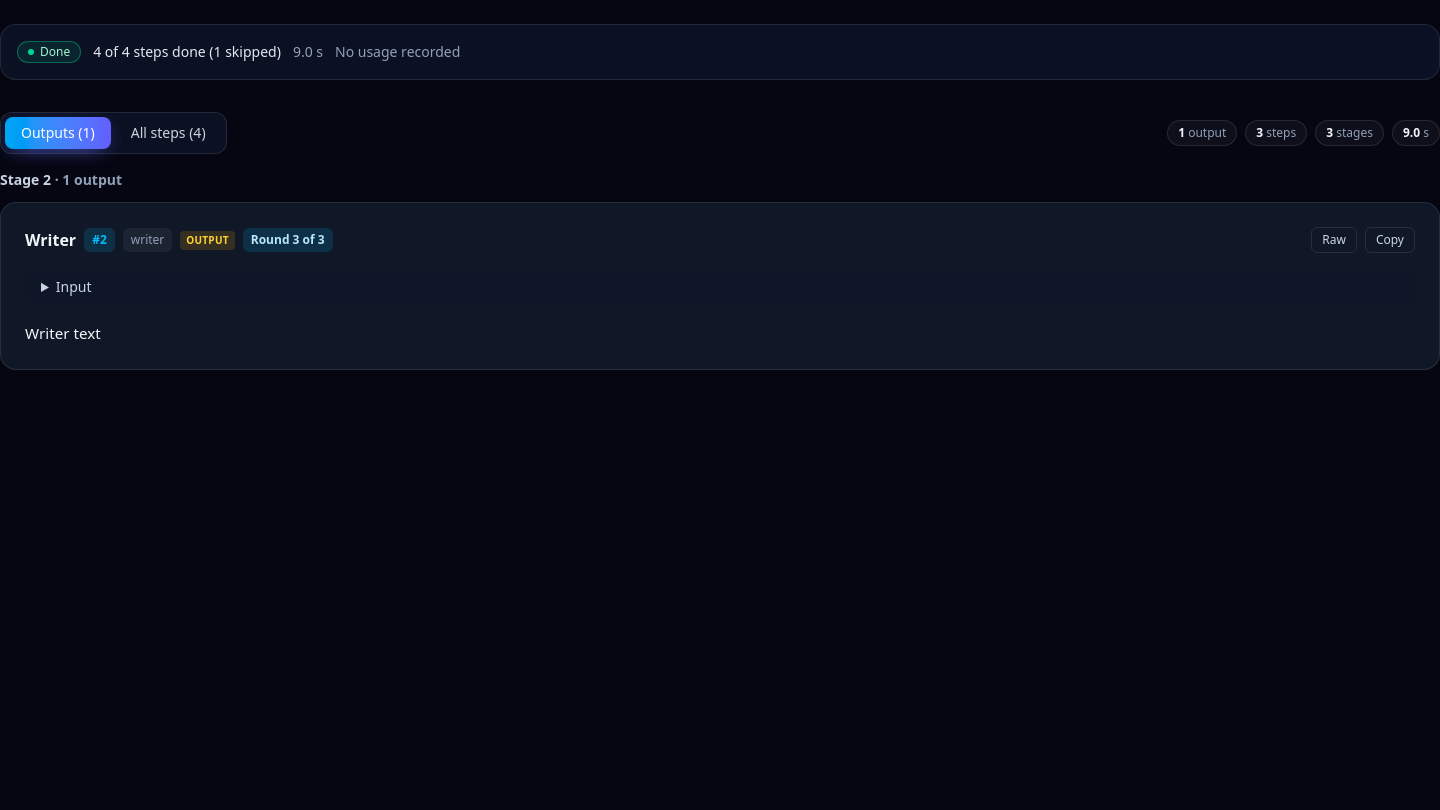
Test: LiveRun: review rounds › tells what the reviewer’s last answer led to: out of rounds
What coordinates should you click on to do the following:
click the tab "All steps (4)"
I would click on:
 (168, 133)
Its box is [115,117,222,149].
(page scrolled)
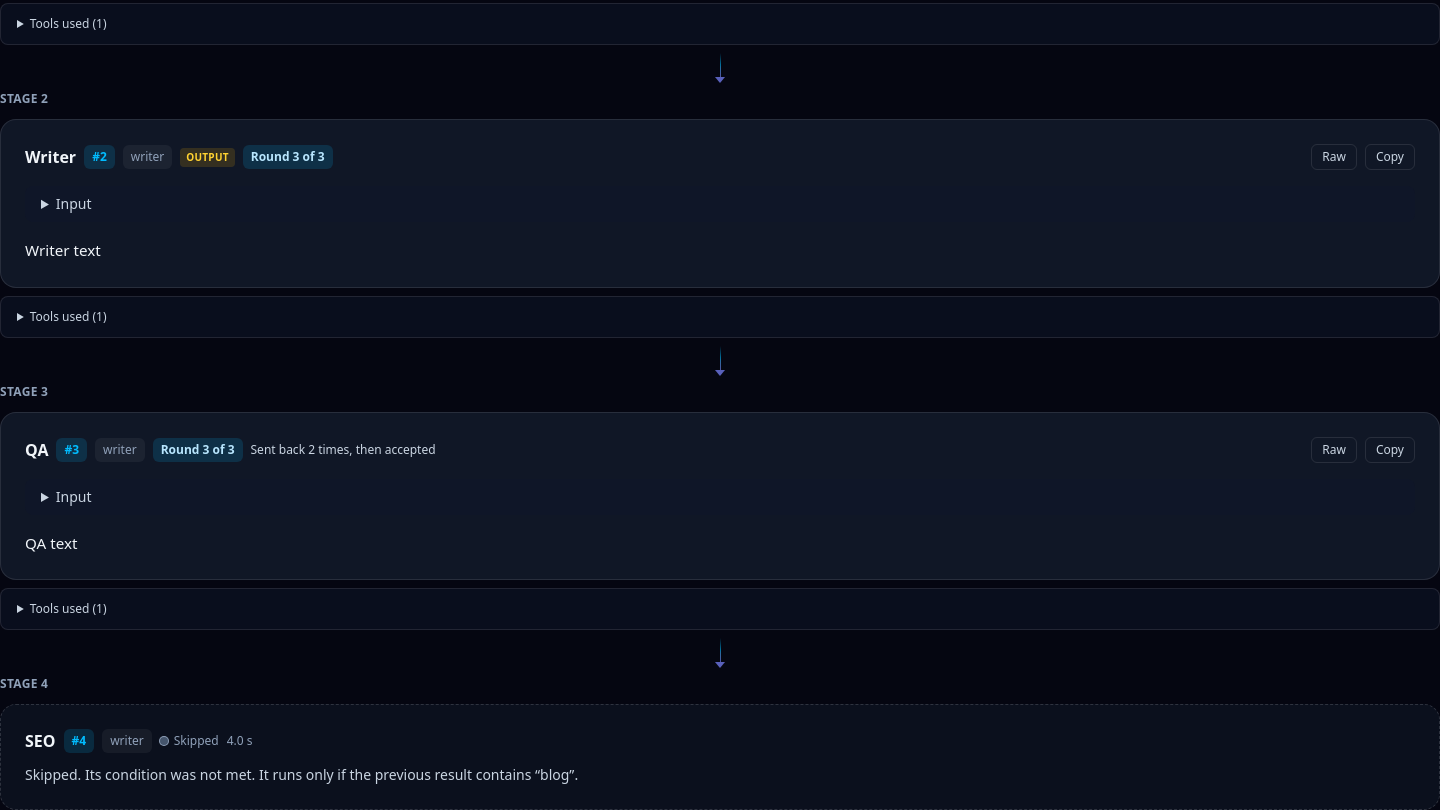
Expected: the text "Sent back 2 times, then accepted" is shown, [250,442,436,458]
